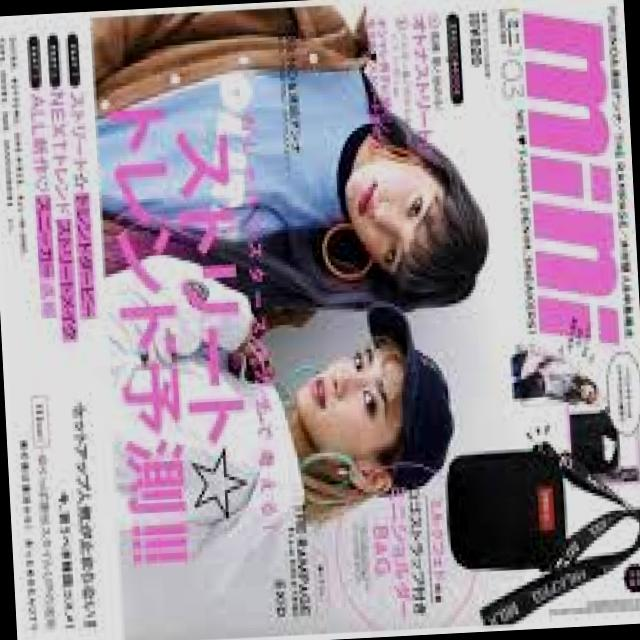paper: (110, 64, 632, 635), (104, 70, 326, 264), (441, 113, 613, 355)
